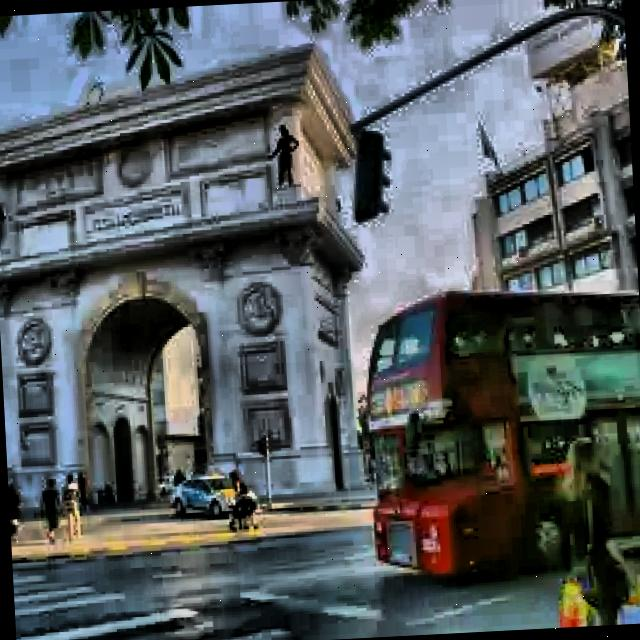triumphal arch: (0, 38, 379, 555)
